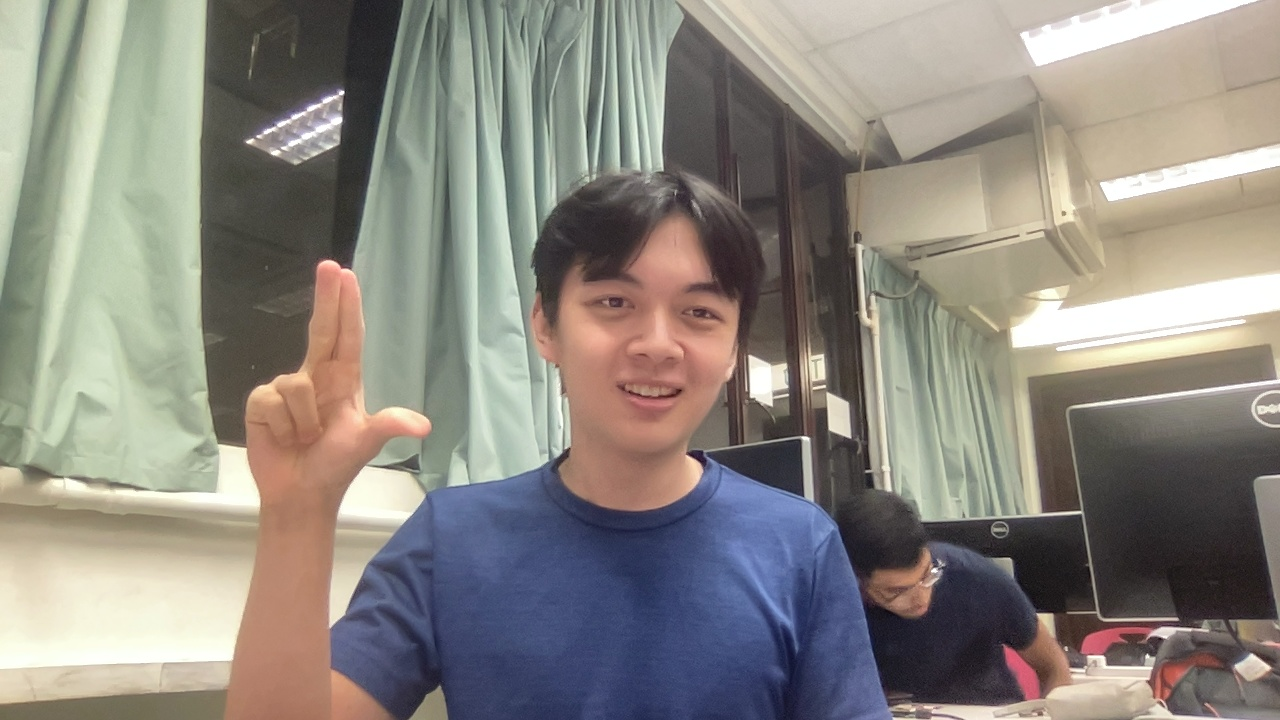no: (197, 224, 451, 511)
